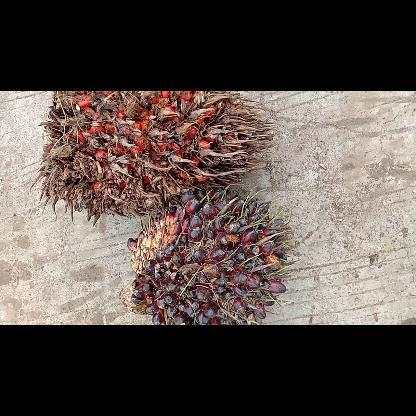TBS mentah: (119, 184, 297, 324)
Terlalu masak: (32, 90, 274, 222)
